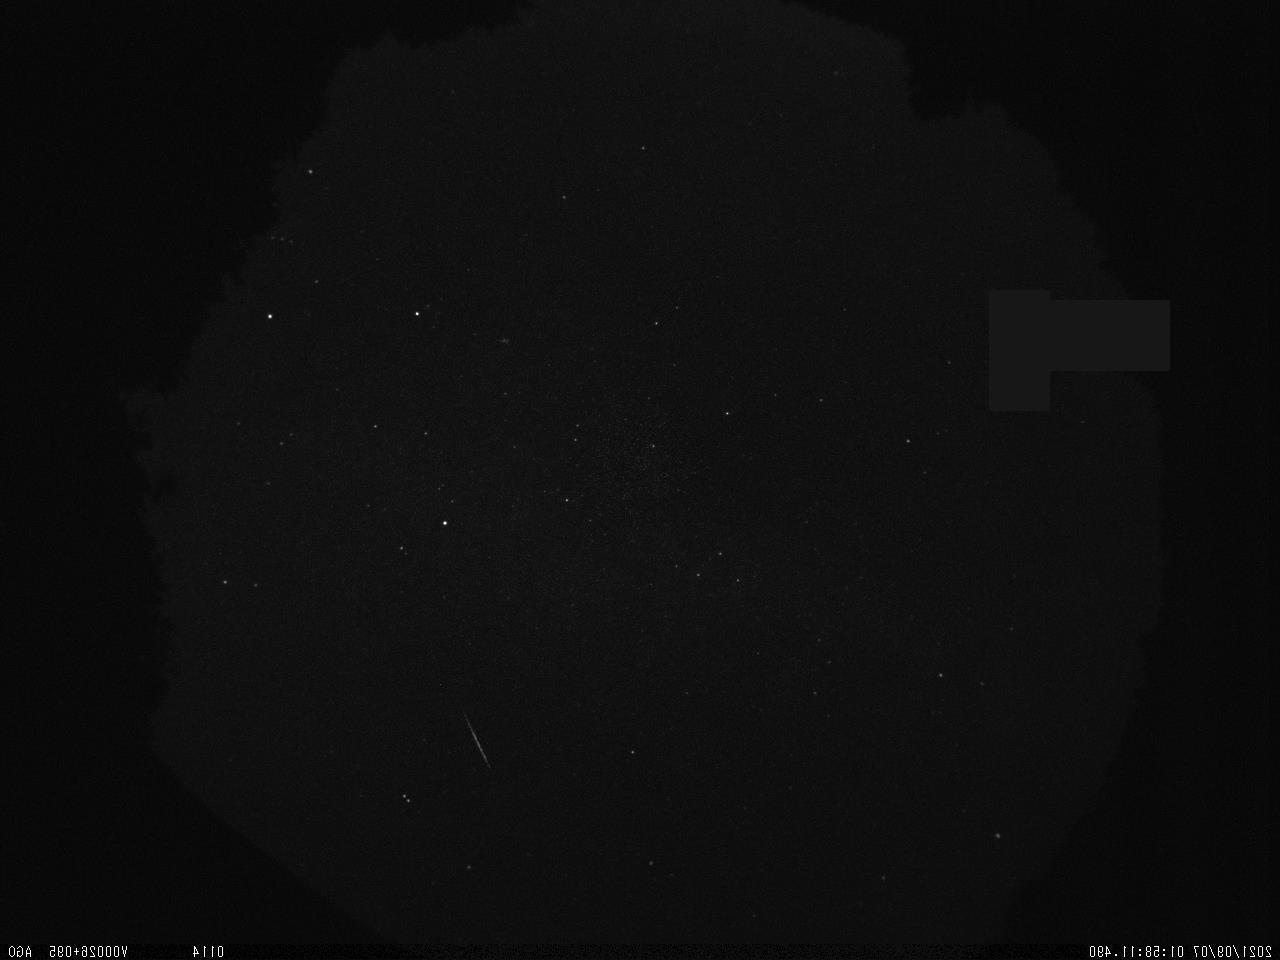meteor: (452, 705, 498, 774)
